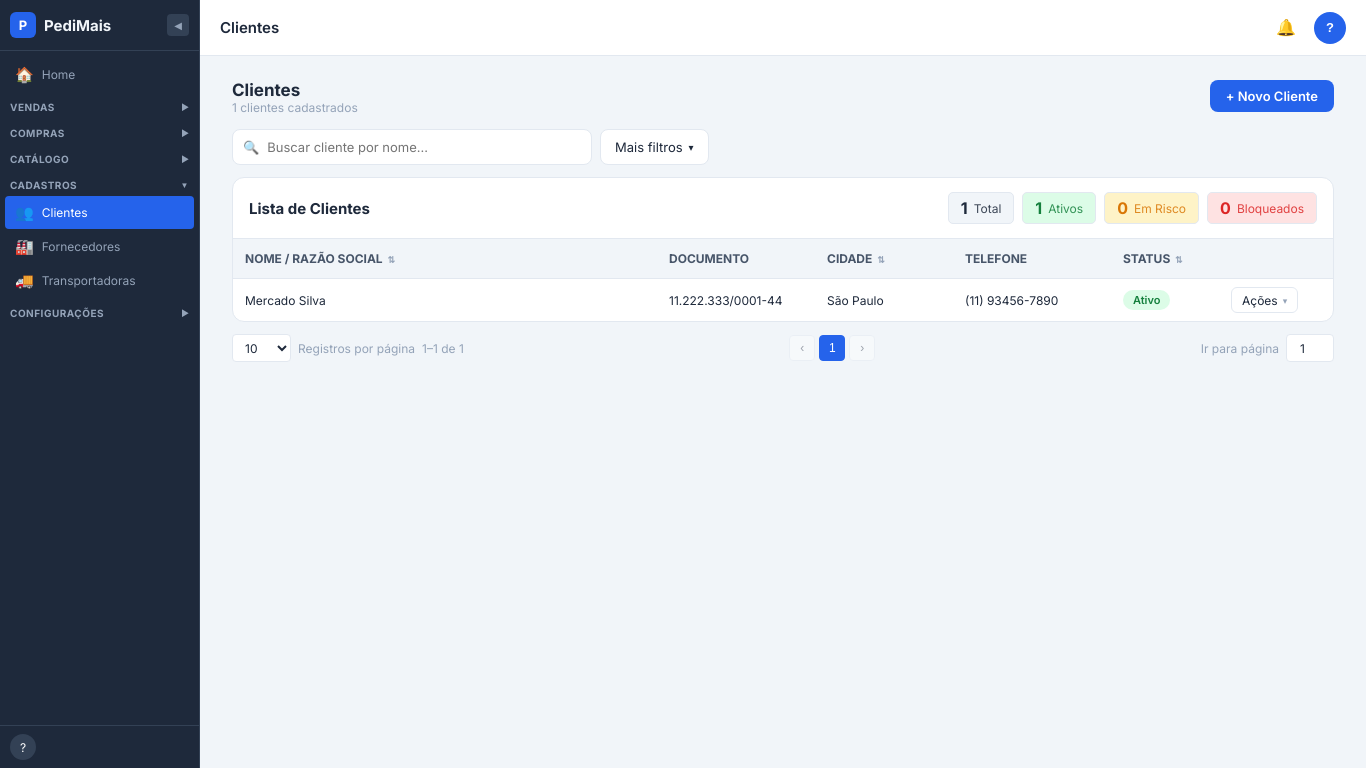
it: ClientesListView › only lists Clientes, never Fornecedores/Transportadoras, and loads the city list from the backend
The width and height of the screenshot is (1366, 768).
Click the button with test id "filter-bar-more": (654, 147) [600,129,709,165]
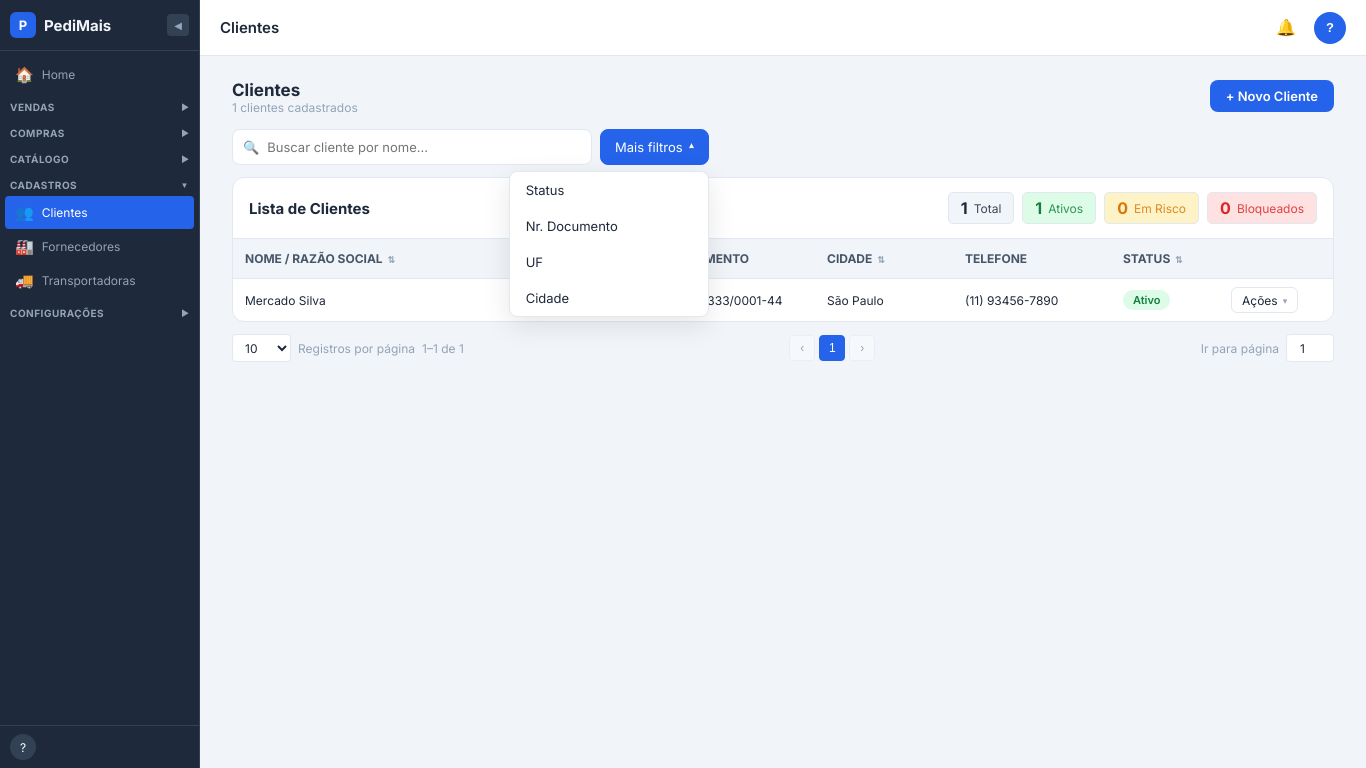
Click the text with test id "filter-cat-Cidade": (547, 298) [526,290,569,306]
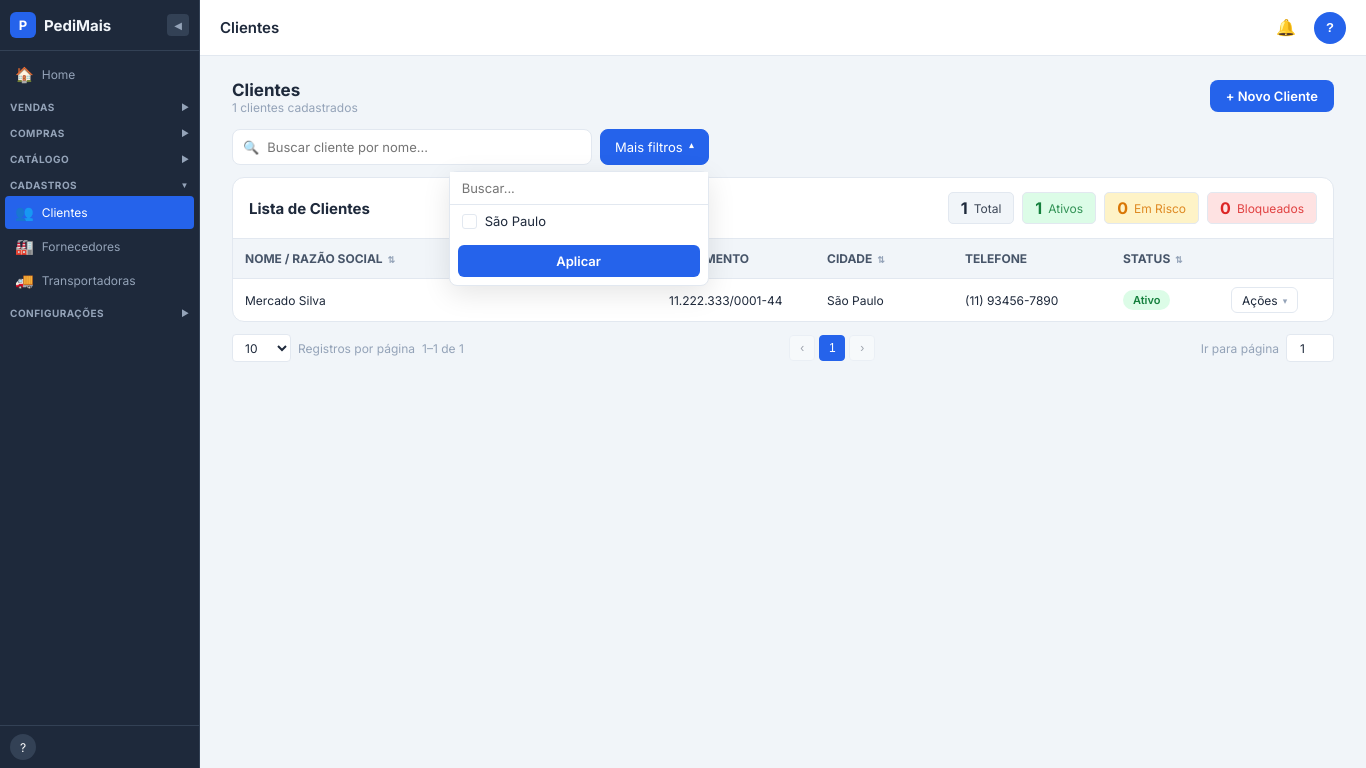
Expected: the element with test id "filter-value-São Paulo" is shown, [462,213,546,229]
